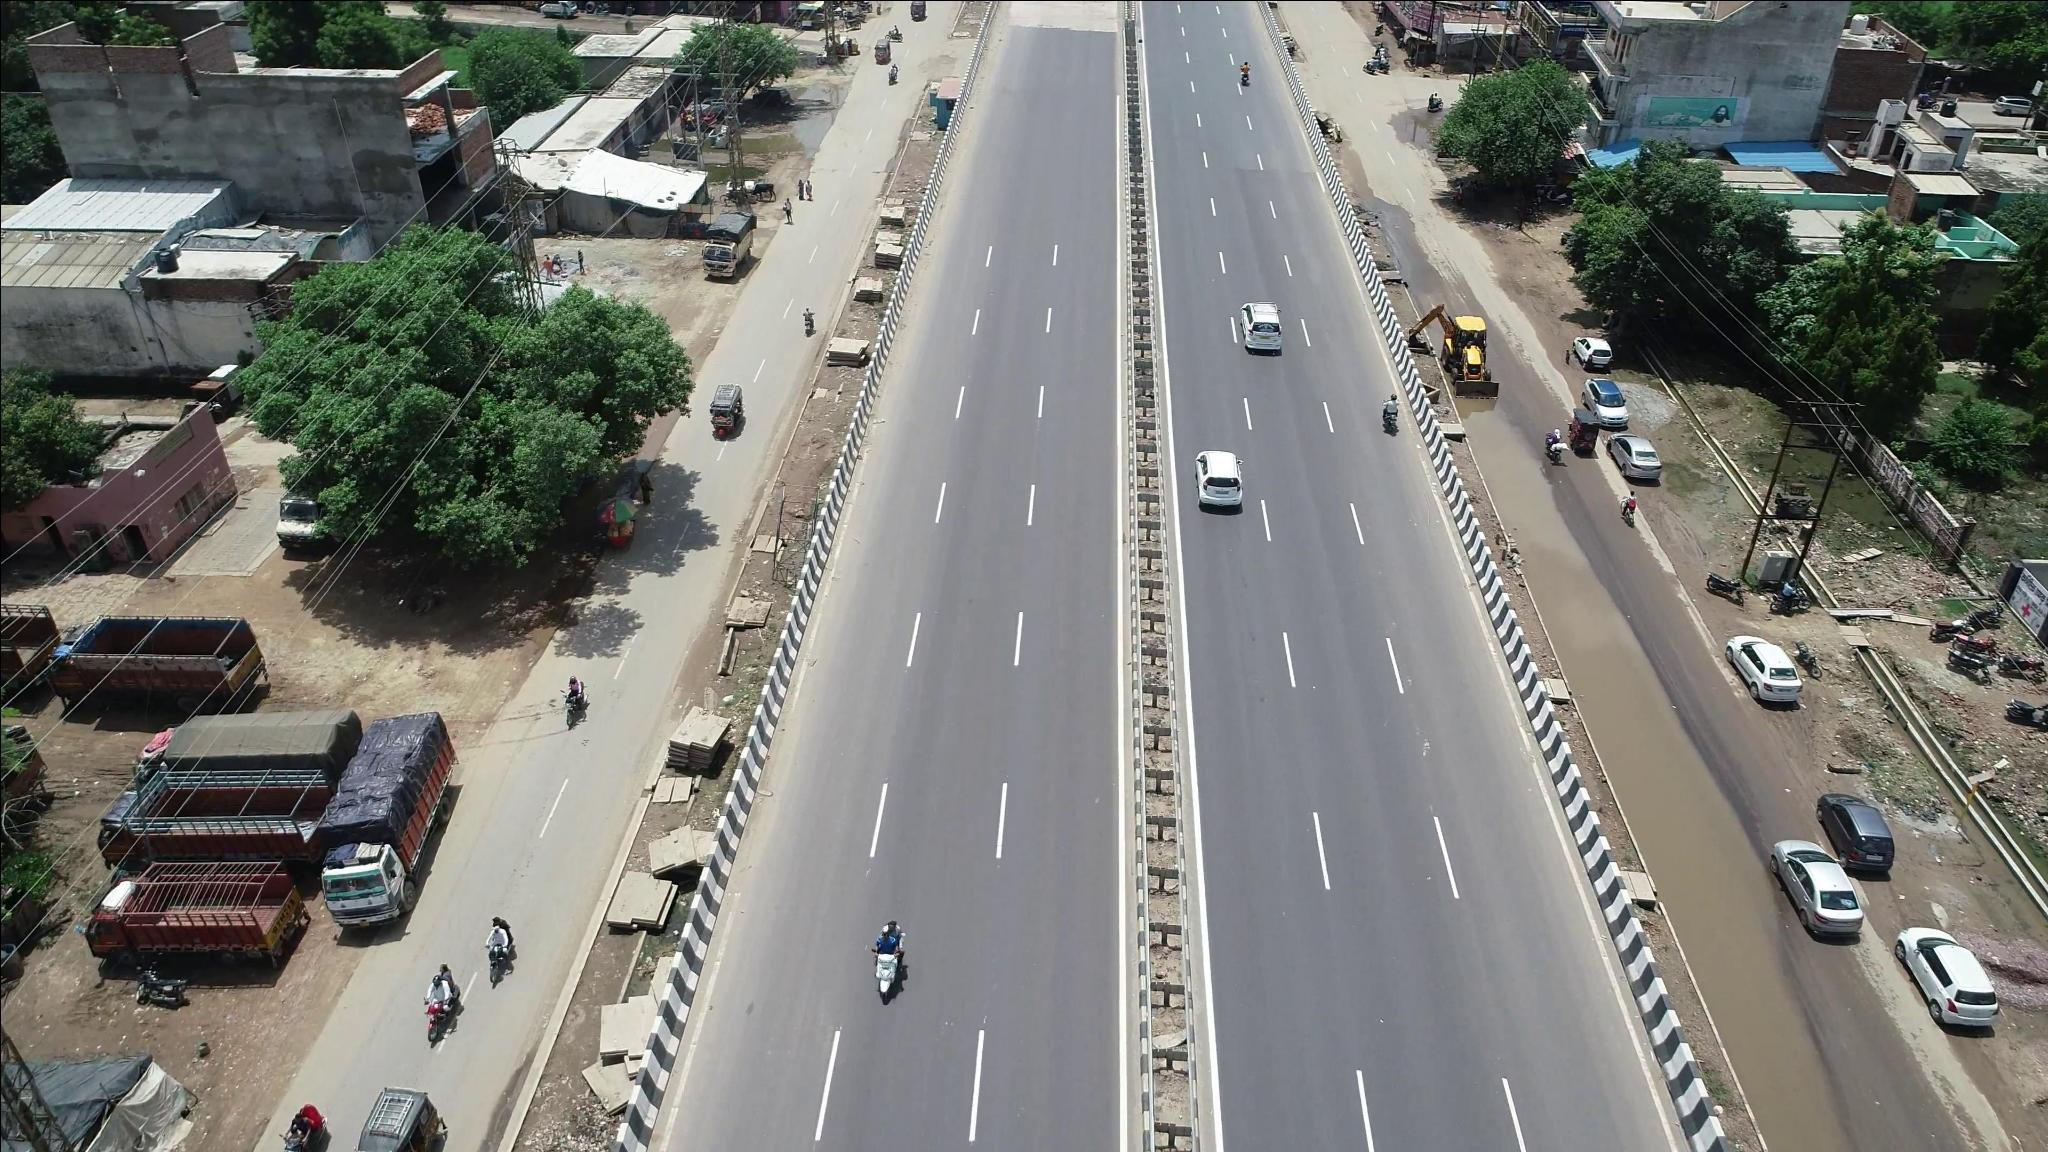Waterlogging: (1578, 622, 1751, 893), (1495, 461, 1599, 596)
